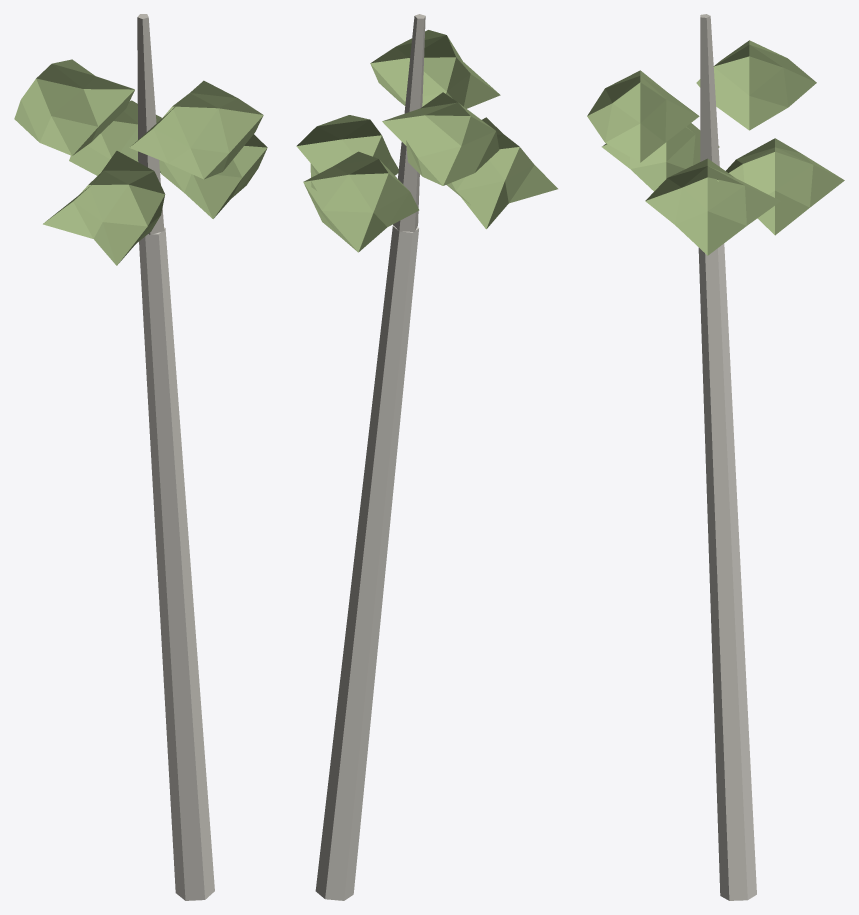
Rendered from birch_v04.glb.
The picture shows the model from 3 angles, left to right: view 1: azimuth 30°, elevation 25°; view 2: azimuth 150°, elevation 25°; view 3: azimuth 270°, elevation 25°; orthographic projection. The views are drawn at different scales.
Visible parts, largest first — view 1: lod0; view 2: lod0; view 3: lod0.
Part boxes in pixels (bbox=[...]): lod0: bbox=[14, 14, 267, 900]; lod0: bbox=[296, 14, 557, 900]; lod0: bbox=[587, 14, 844, 900].
Size of what is drawn, in the model's own units: 1.89 by 6.61 by 1.82.
